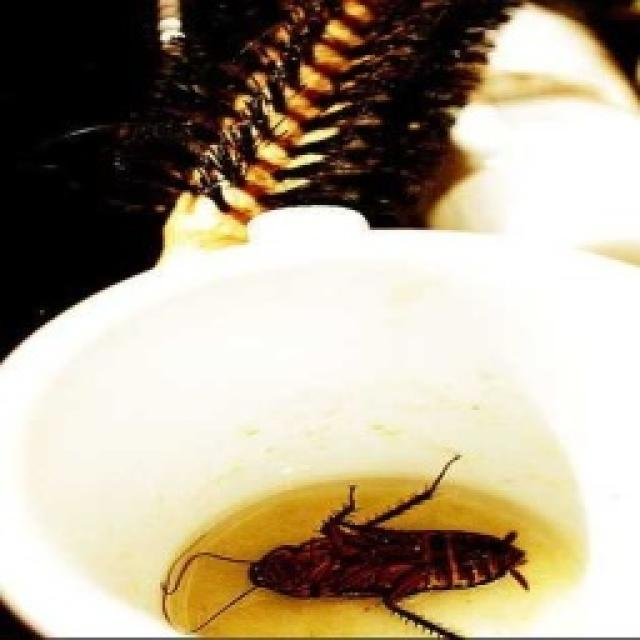cockroach: (172, 448, 536, 638)
